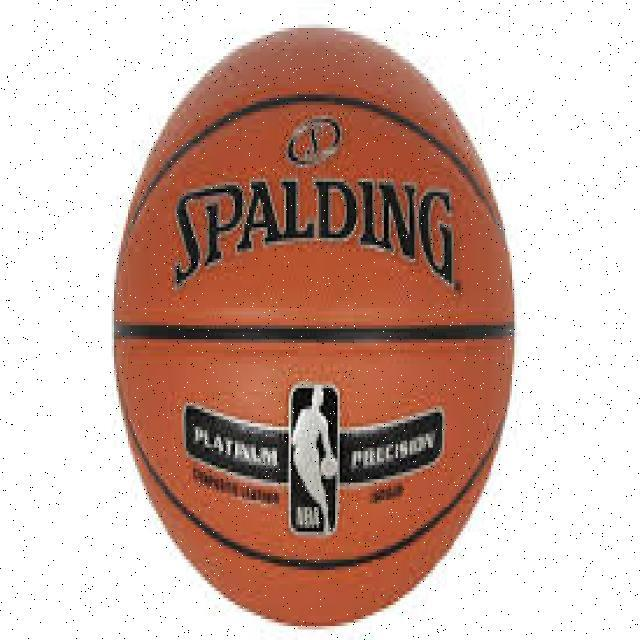ball: (116, 30, 514, 621)
